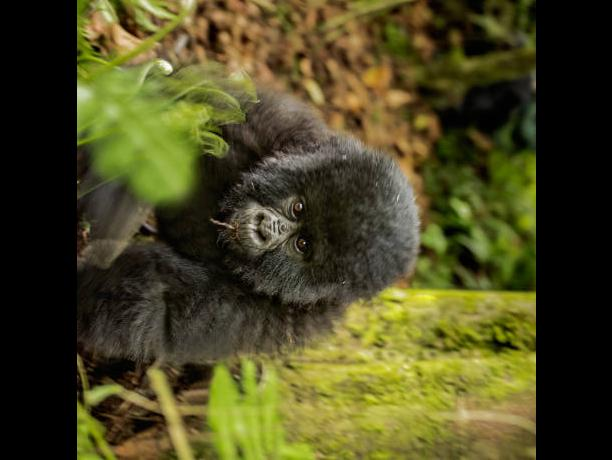goriile_montagne: (91, 74, 433, 348)
